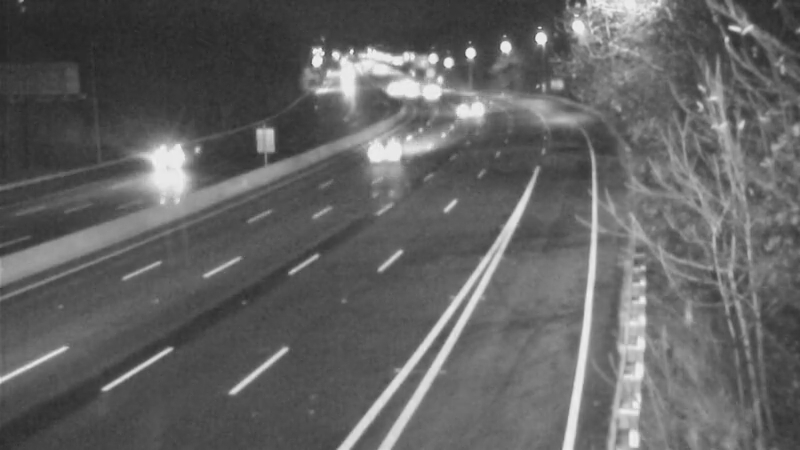vehicle: (128, 121, 208, 201), (405, 66, 455, 116), (444, 85, 494, 135), (360, 123, 410, 173)
